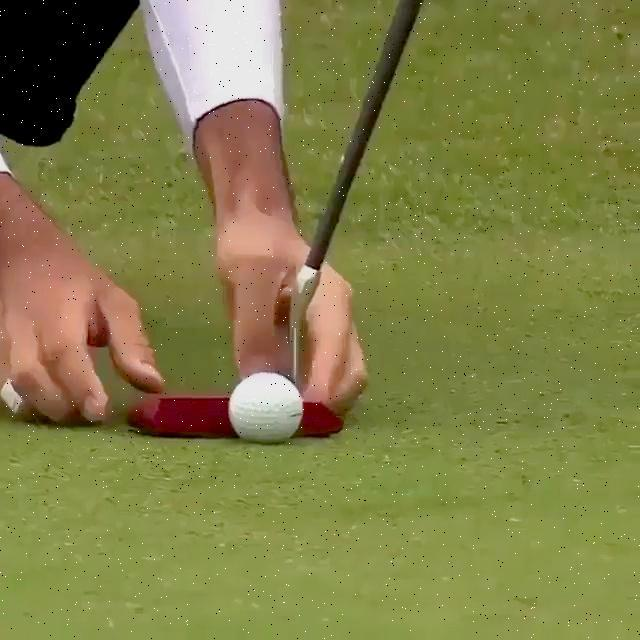ClubHandle: (129, 1, 423, 436)
ClubHead: (130, 393, 345, 436)
GolfBall: (231, 371, 304, 439)
